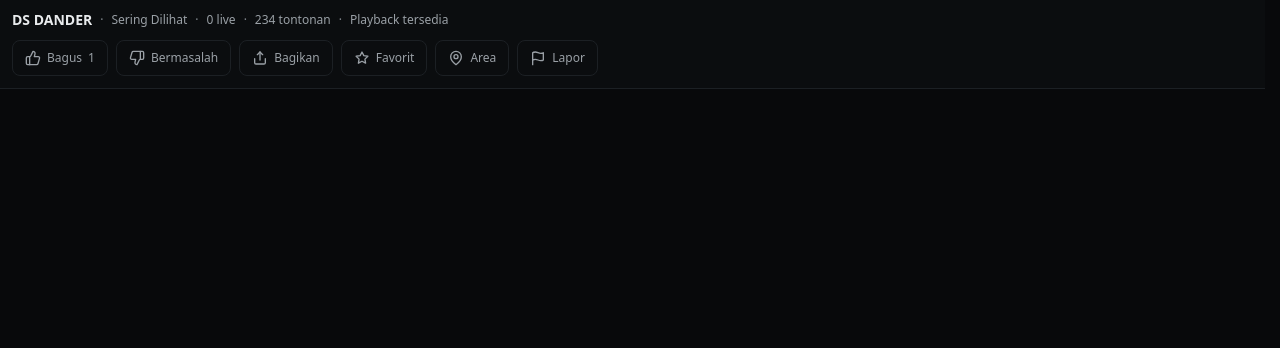
Test case: CameraDetailPanel — the Lapor chip owns the form › opens the report form and closes it again
Expected: the button "Gambar buram" is not shown
Step 1. Click the button with test id "camera-action-report" → point(558, 58), box [517,40,598,76]
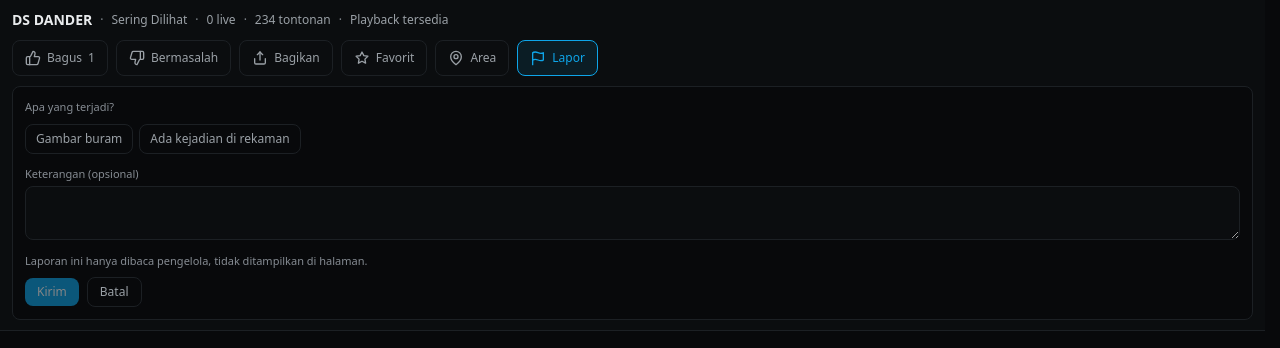
Now the button "Gambar buram" is shown, box [25,124,133,154]
Step 2. Click the button with test id "camera-action-report" → point(558, 58), box [517,40,598,76]
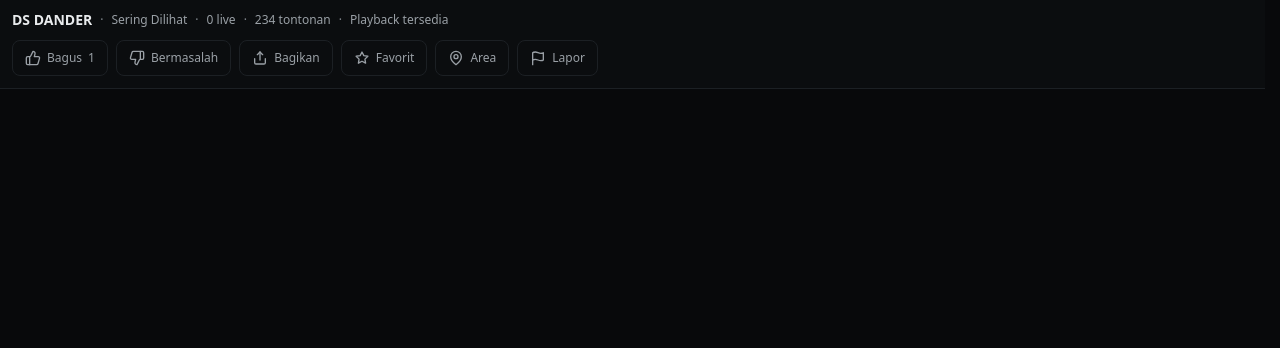
Now the button "Gambar buram" is gone
